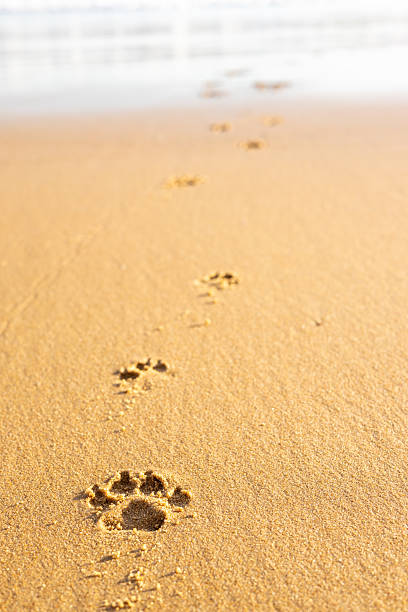animal_foot_print: (85, 470, 191, 531), (115, 357, 170, 392), (195, 271, 239, 289), (165, 174, 203, 188), (253, 81, 289, 90), (238, 139, 266, 150), (209, 122, 230, 132), (263, 115, 282, 126)
